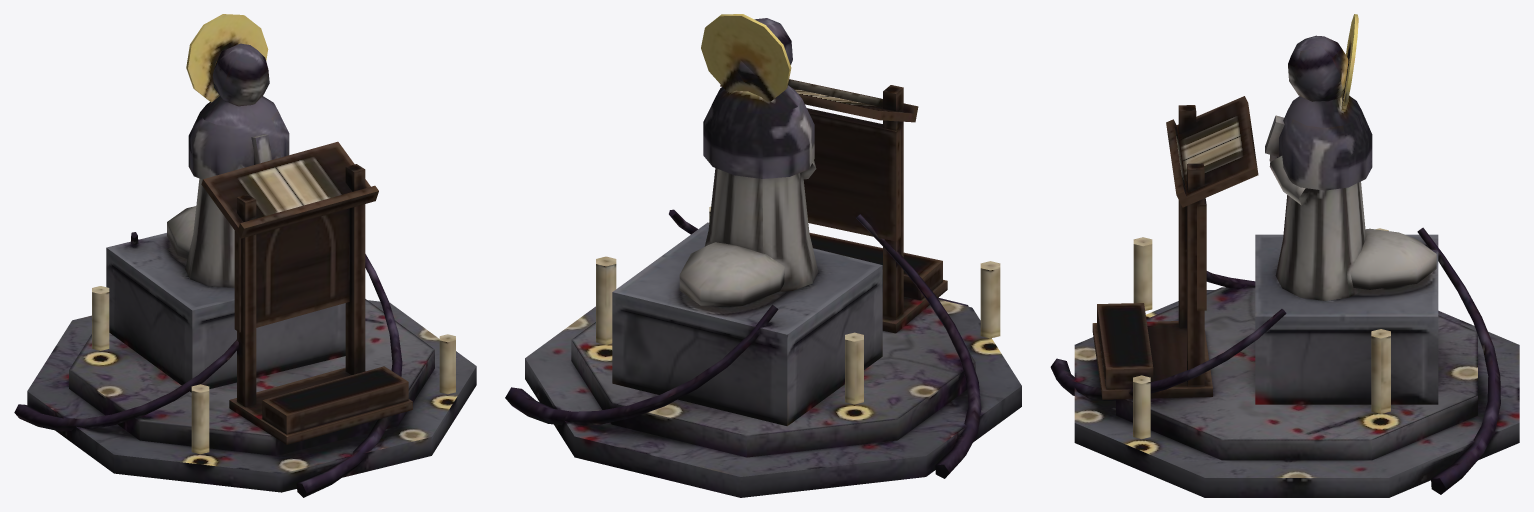
File: thorn_shrine.glb
The picture shows the model from 3 angles, left to right: view 1: azimuth 30°, elevation 25°; view 2: azimuth 150°, elevation 25°; view 3: azimuth 270°, elevation 25°; orthographic projection. The views are drawn at different scales.
Visible parts, largest first — view 1: thorn_shrine; view 2: thorn_shrine; view 3: thorn_shrine.
Boxes of the visible parts, bbox=[...] form: thorn_shrine: bbox=[14, 14, 476, 497]; thorn_shrine: bbox=[505, 14, 1021, 497]; thorn_shrine: bbox=[1050, 14, 1519, 497].
Size of the model in its own units: 1.68 by 1.55 by 1.69.
Materials: 1 (1 with a texture image).
